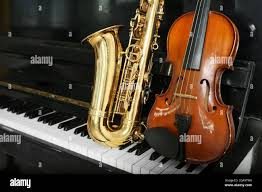Piano: (1, 50, 259, 192)
Saxophone: (74, 2, 169, 148)
Violin: (152, 1, 249, 169)
